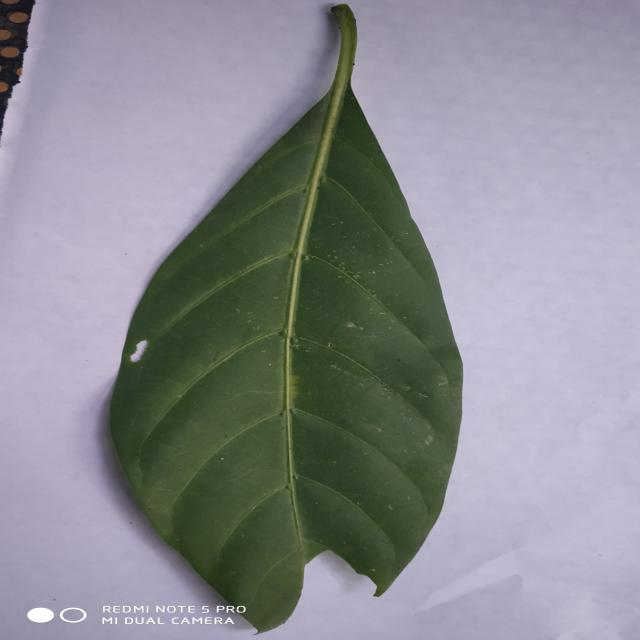nooni: (111, 5, 462, 632)
